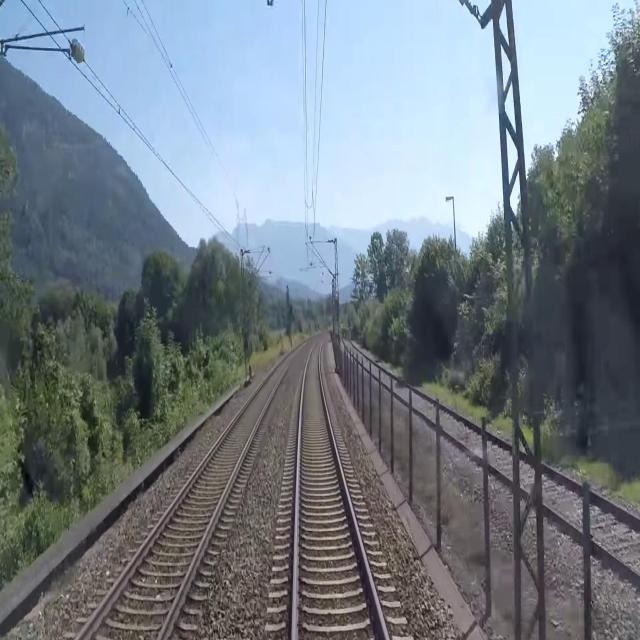rail-track: (79, 352, 294, 639), (296, 342, 384, 639)
